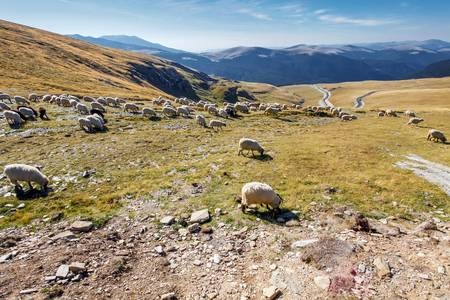sheep: (4, 163, 52, 193), (242, 183, 283, 214), (236, 136, 267, 157), (426, 128, 449, 148), (3, 110, 22, 125), (207, 117, 227, 131), (76, 117, 94, 132), (122, 102, 141, 116), (13, 95, 33, 107), (87, 112, 101, 128), (18, 107, 36, 119), (407, 116, 425, 128), (141, 105, 156, 119), (340, 113, 357, 123), (195, 114, 207, 128), (104, 96, 117, 106), (27, 93, 40, 103), (75, 103, 87, 113), (385, 110, 398, 118), (376, 112, 384, 118)
